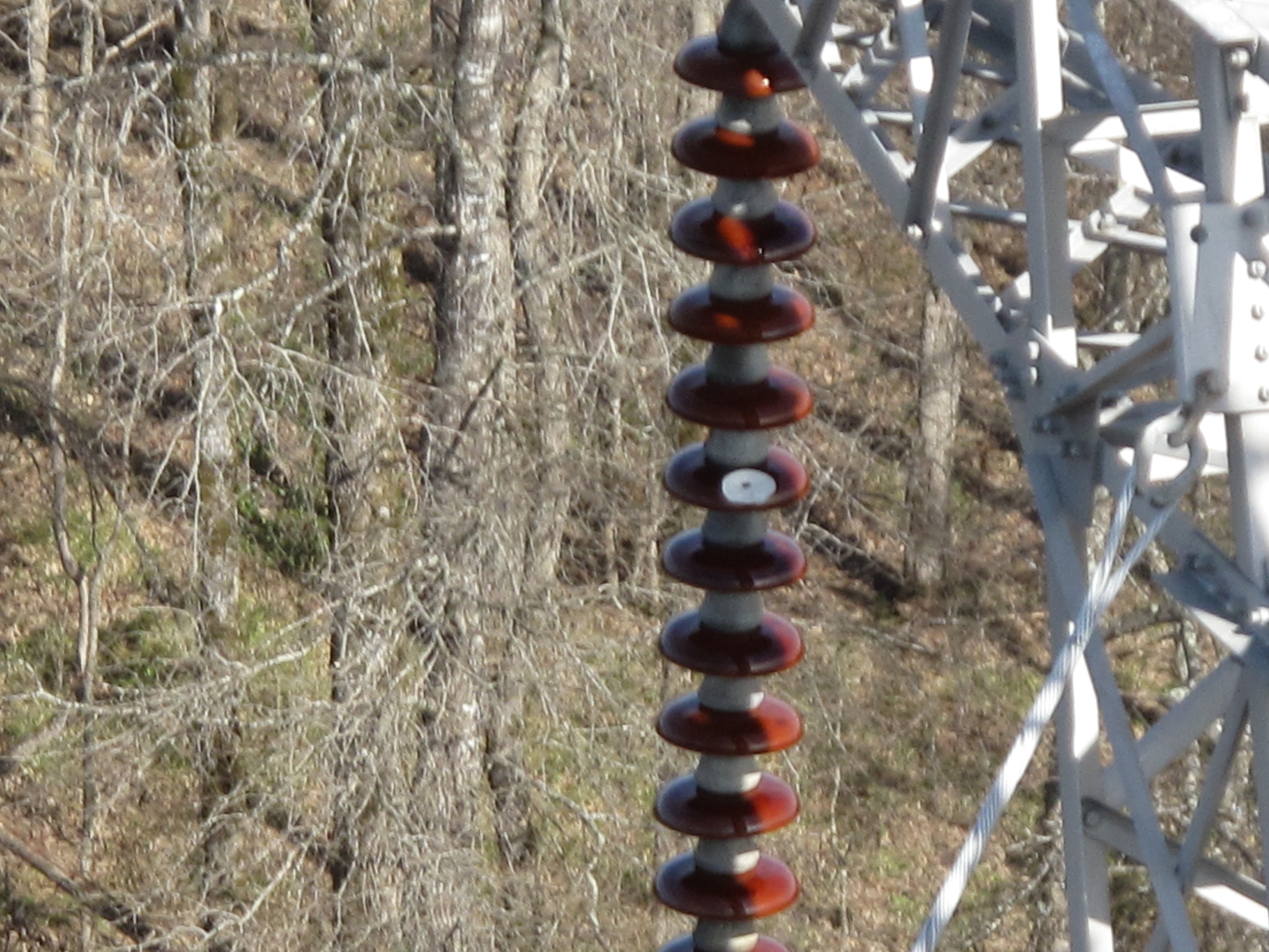damaged: (716, 462, 780, 511)
insulator: (650, 32, 813, 952)
